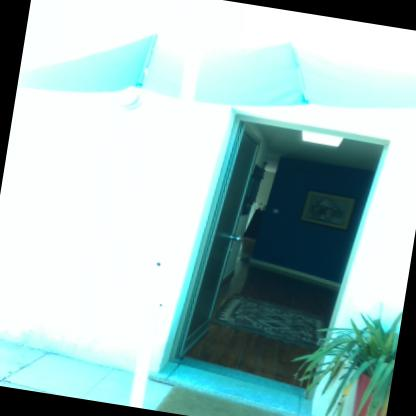open: (128, 94, 401, 415)
